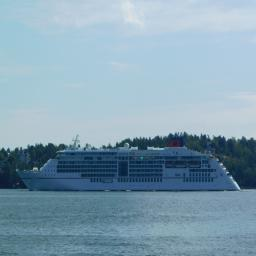cruises: (10, 135, 246, 198)
